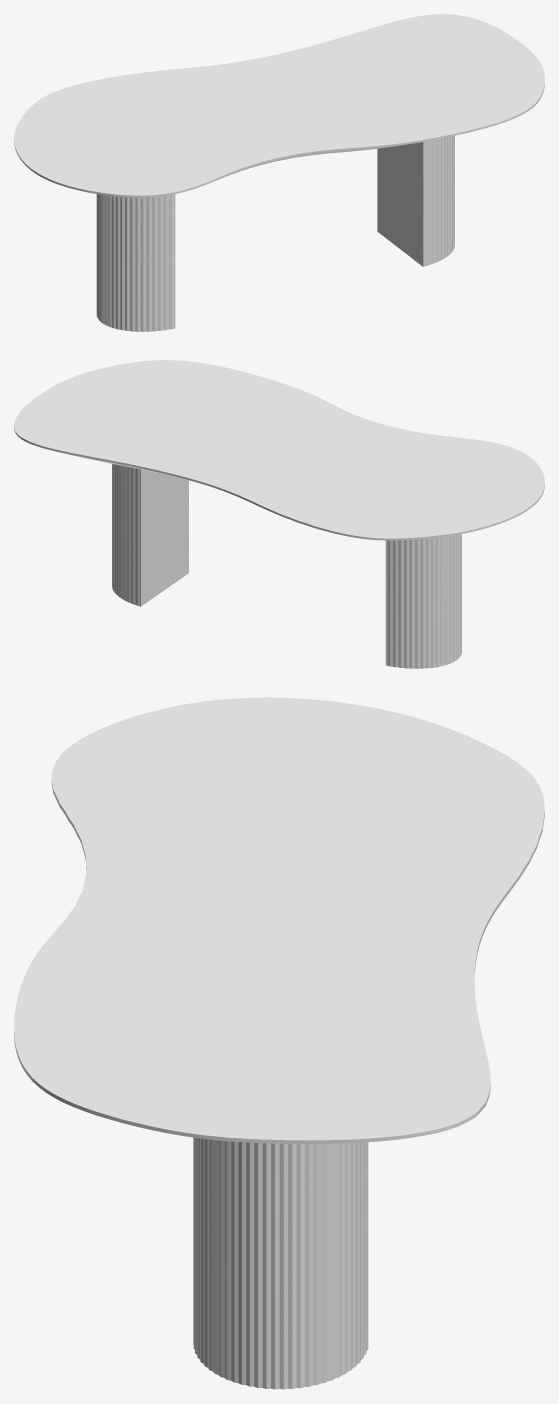
File: purewhite_wave_facet_flute.glb
The picture shows the model from 3 angles, top to bottom: view 1: azimuth 30°, elevation 25°; view 2: azimuth 150°, elevation 25°; view 3: azimuth 270°, elevation 25°; orthographic projection. The views are drawn at different scales.
Visible parts, largest first — view 1: facet_wave, flute; view 2: facet_wave, flute; view 3: facet_wave, flute.
Boxes of the visible parts, <box> form: facet_wave: <box>14,14,544,197</box>; flute: <box>96,136,454,331</box>; facet_wave: <box>14,360,544,540</box>; flute: <box>112,464,461,668</box>; facet_wave: <box>14,697,544,1143</box>; flute: <box>193,1137,368,1389</box>.
Size of the model in its own units: 7.5 by 2.5 by 3.8.
Materials: 1 (1 with a texture image).
